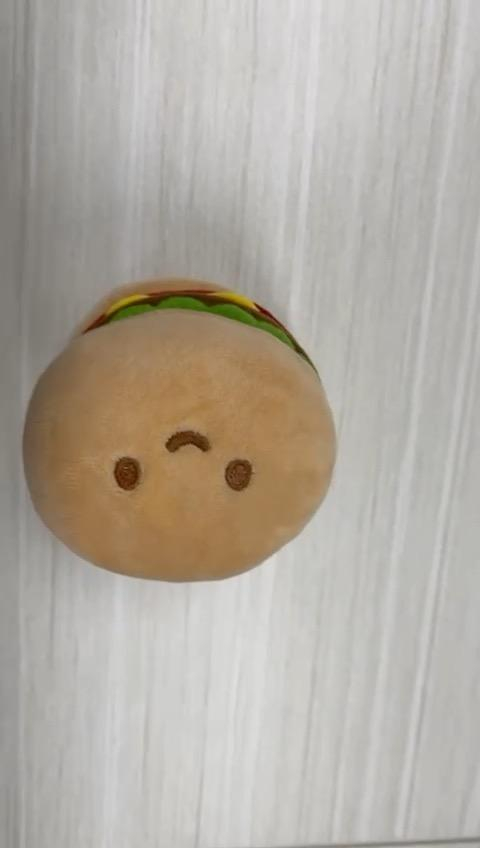hamburger: (20, 281, 339, 584)
